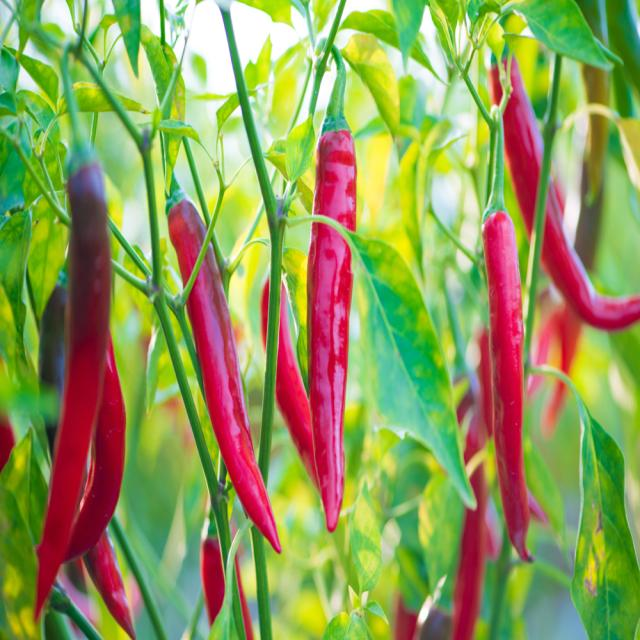Ripe: (35, 52, 135, 636), (165, 197, 283, 558), (489, 57, 640, 335), (305, 124, 358, 535), (482, 210, 531, 559), (65, 330, 126, 560), (276, 285, 320, 490), (82, 528, 135, 638), (200, 536, 225, 627)
